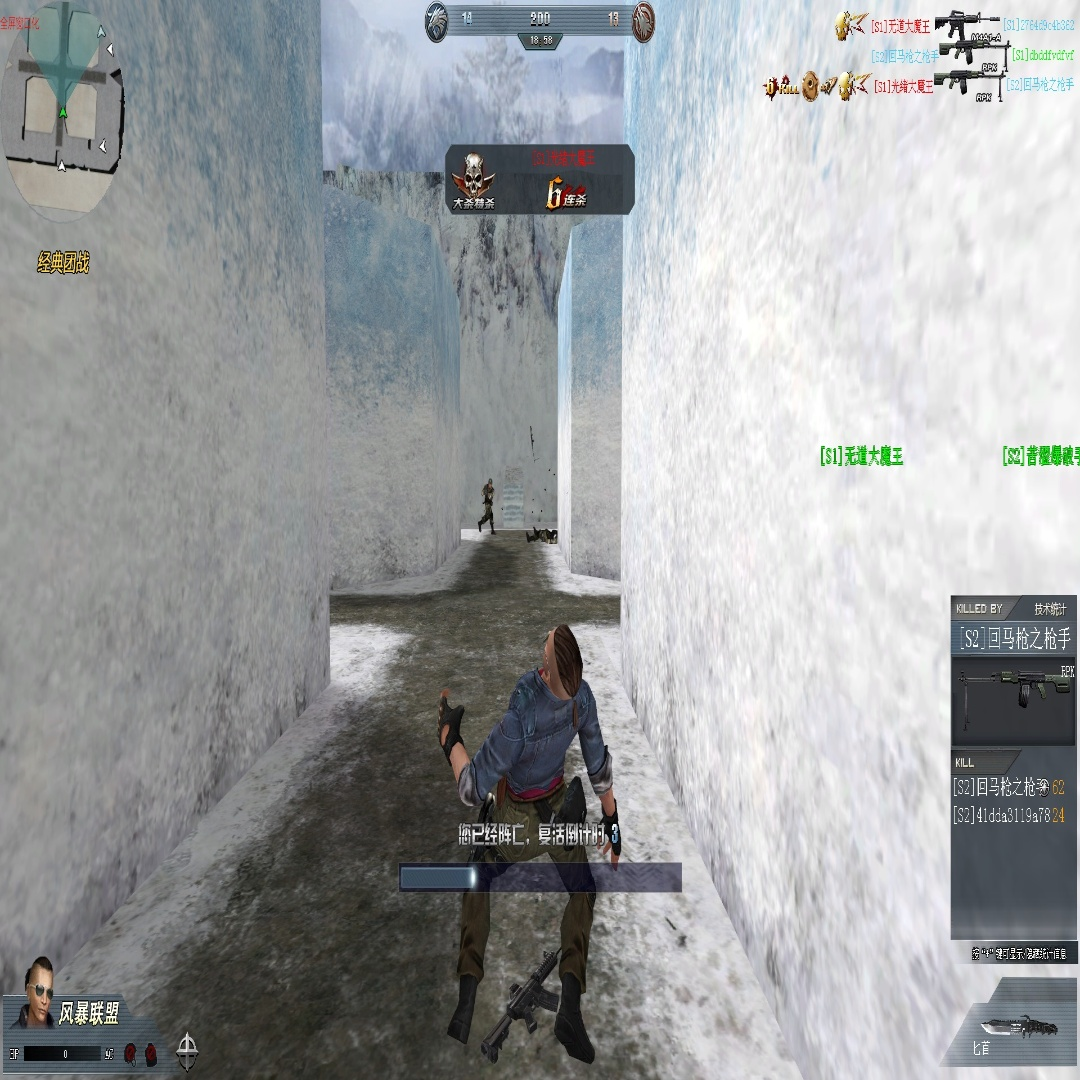ct: (479, 478, 495, 534)
head: (488, 478, 493, 489)
